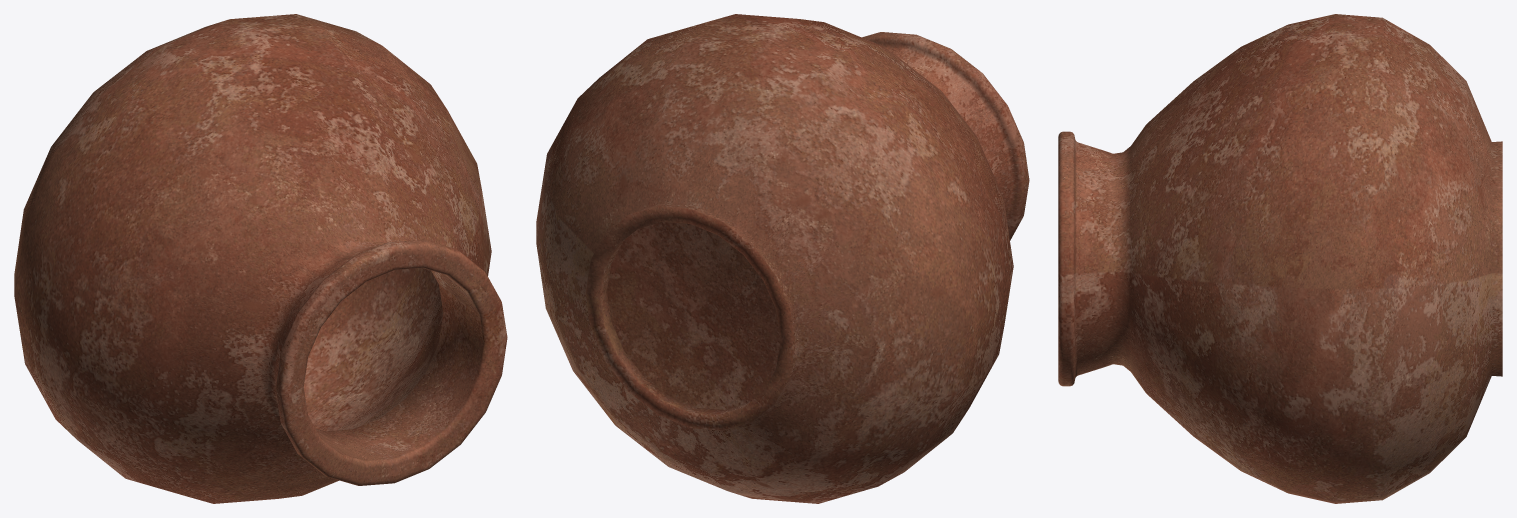
3 renders of one model, left to right at view 1: azimuth 30°, elevation 25°; view 2: azimuth 150°, elevation 25°; view 3: azimuth 270°, elevation 25°, orthographic. The views are drawn at different scales.
Visible parts, largest first — view 1: Object_2; view 2: Object_2; view 3: Object_2.
Part boxes in pixels (left/top/right/bottom): Object_2: left=14, top=14, right=507, bottom=503; Object_2: left=536, top=14, right=1029, bottom=503; Object_2: left=1058, top=14, right=1502, bottom=503.
Bounding box in the file's own units: 50.84 × 50.84 × 45.78.
Materials: 1 (1 with a texture image).
